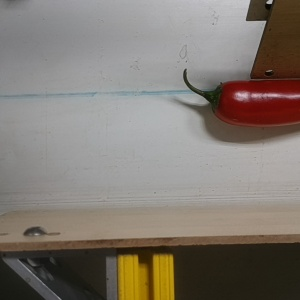Cut Point: (204, 80, 233, 124)
